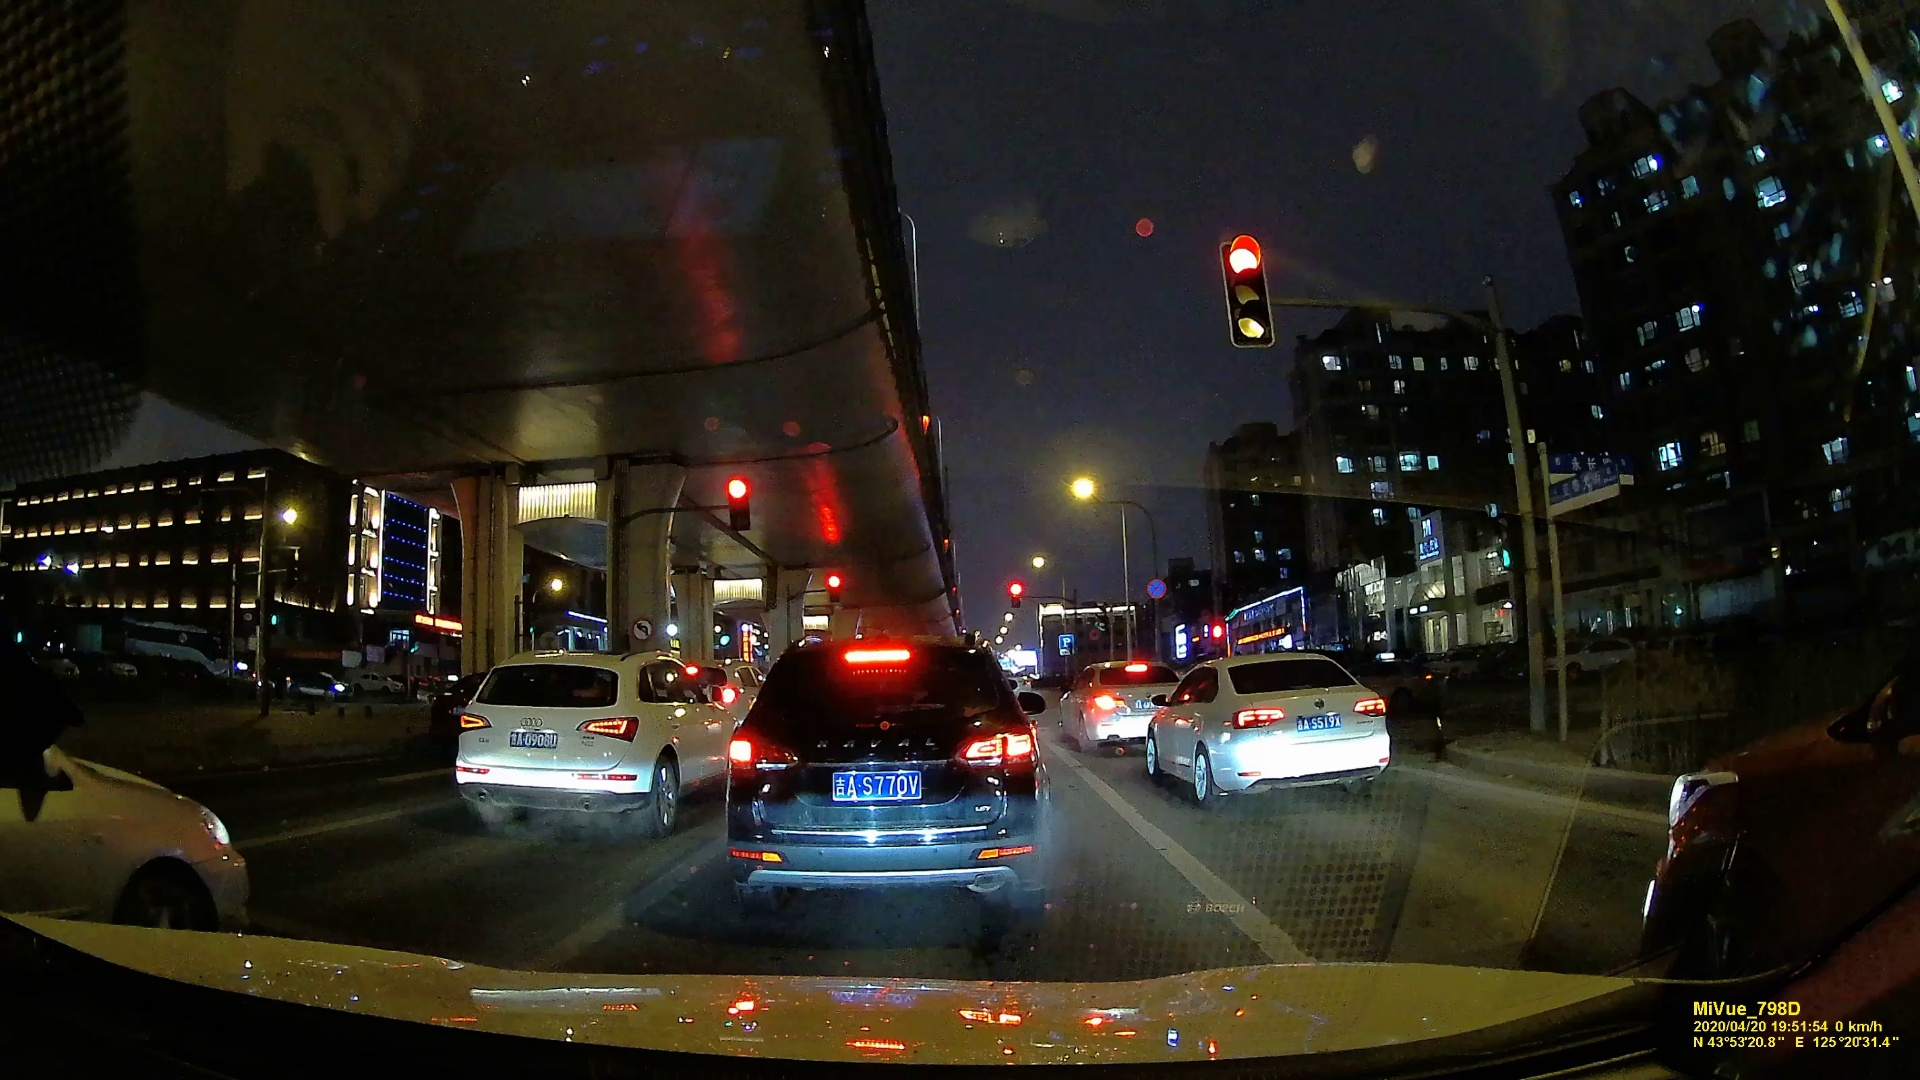traffic_sign: (1224, 231, 1278, 349), (1545, 465, 1625, 502), (1482, 498, 1520, 570), (725, 477, 750, 527), (1146, 578, 1168, 604), (827, 574, 844, 603), (1007, 582, 1023, 611), (632, 618, 651, 640), (1058, 633, 1076, 655)
vehicle: (727, 647, 1038, 913), (452, 651, 738, 844), (1146, 647, 1396, 807), (1062, 653, 1174, 754)
